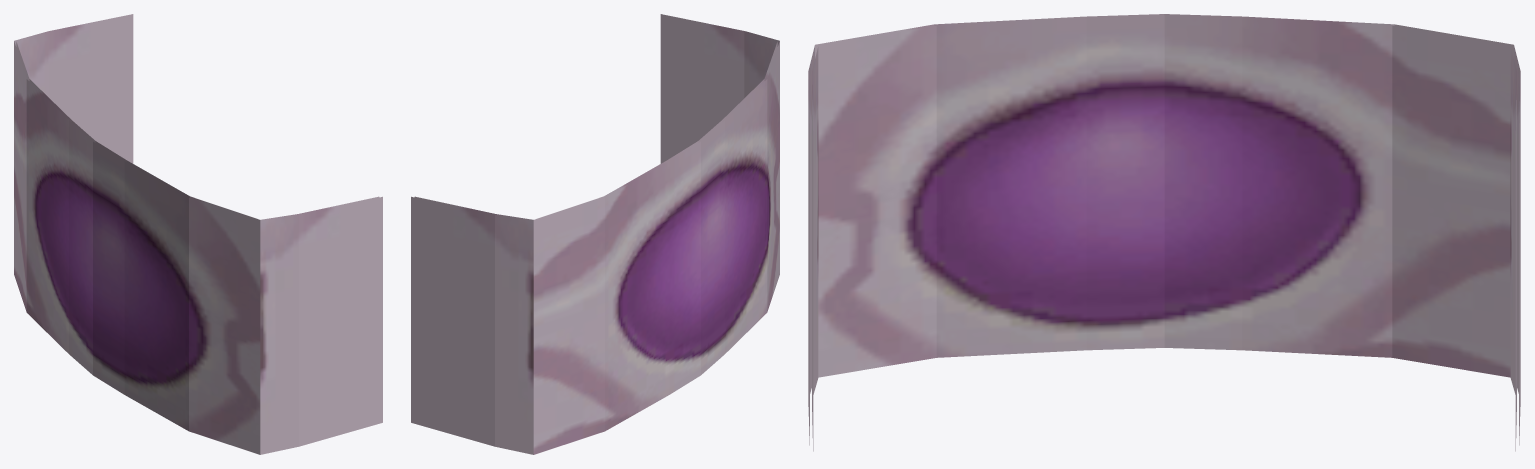
Rendered from Bat_starGlasses.obj.
3 renders of one model, left to right at view 1: azimuth 30°, elevation 25°; view 2: azimuth 150°, elevation 25°; view 3: azimuth 270°, elevation 25°, orthographic. The views are drawn at different scales.
Visible parts, largest first — view 1: Bat_starGlasses_tri; view 2: Bat_starGlasses_tri; view 3: Bat_starGlasses_tri.
Boxes of the visible parts, x1,y1,x2,y2 form: Bat_starGlasses_tri: [14, 14, 382, 454]; Bat_starGlasses_tri: [411, 14, 779, 454]; Bat_starGlasses_tri: [808, 14, 1520, 451].
Size of the model in its own units: 0.0646 by 0.0876 by 0.1702.
1 material, 1 textured.
